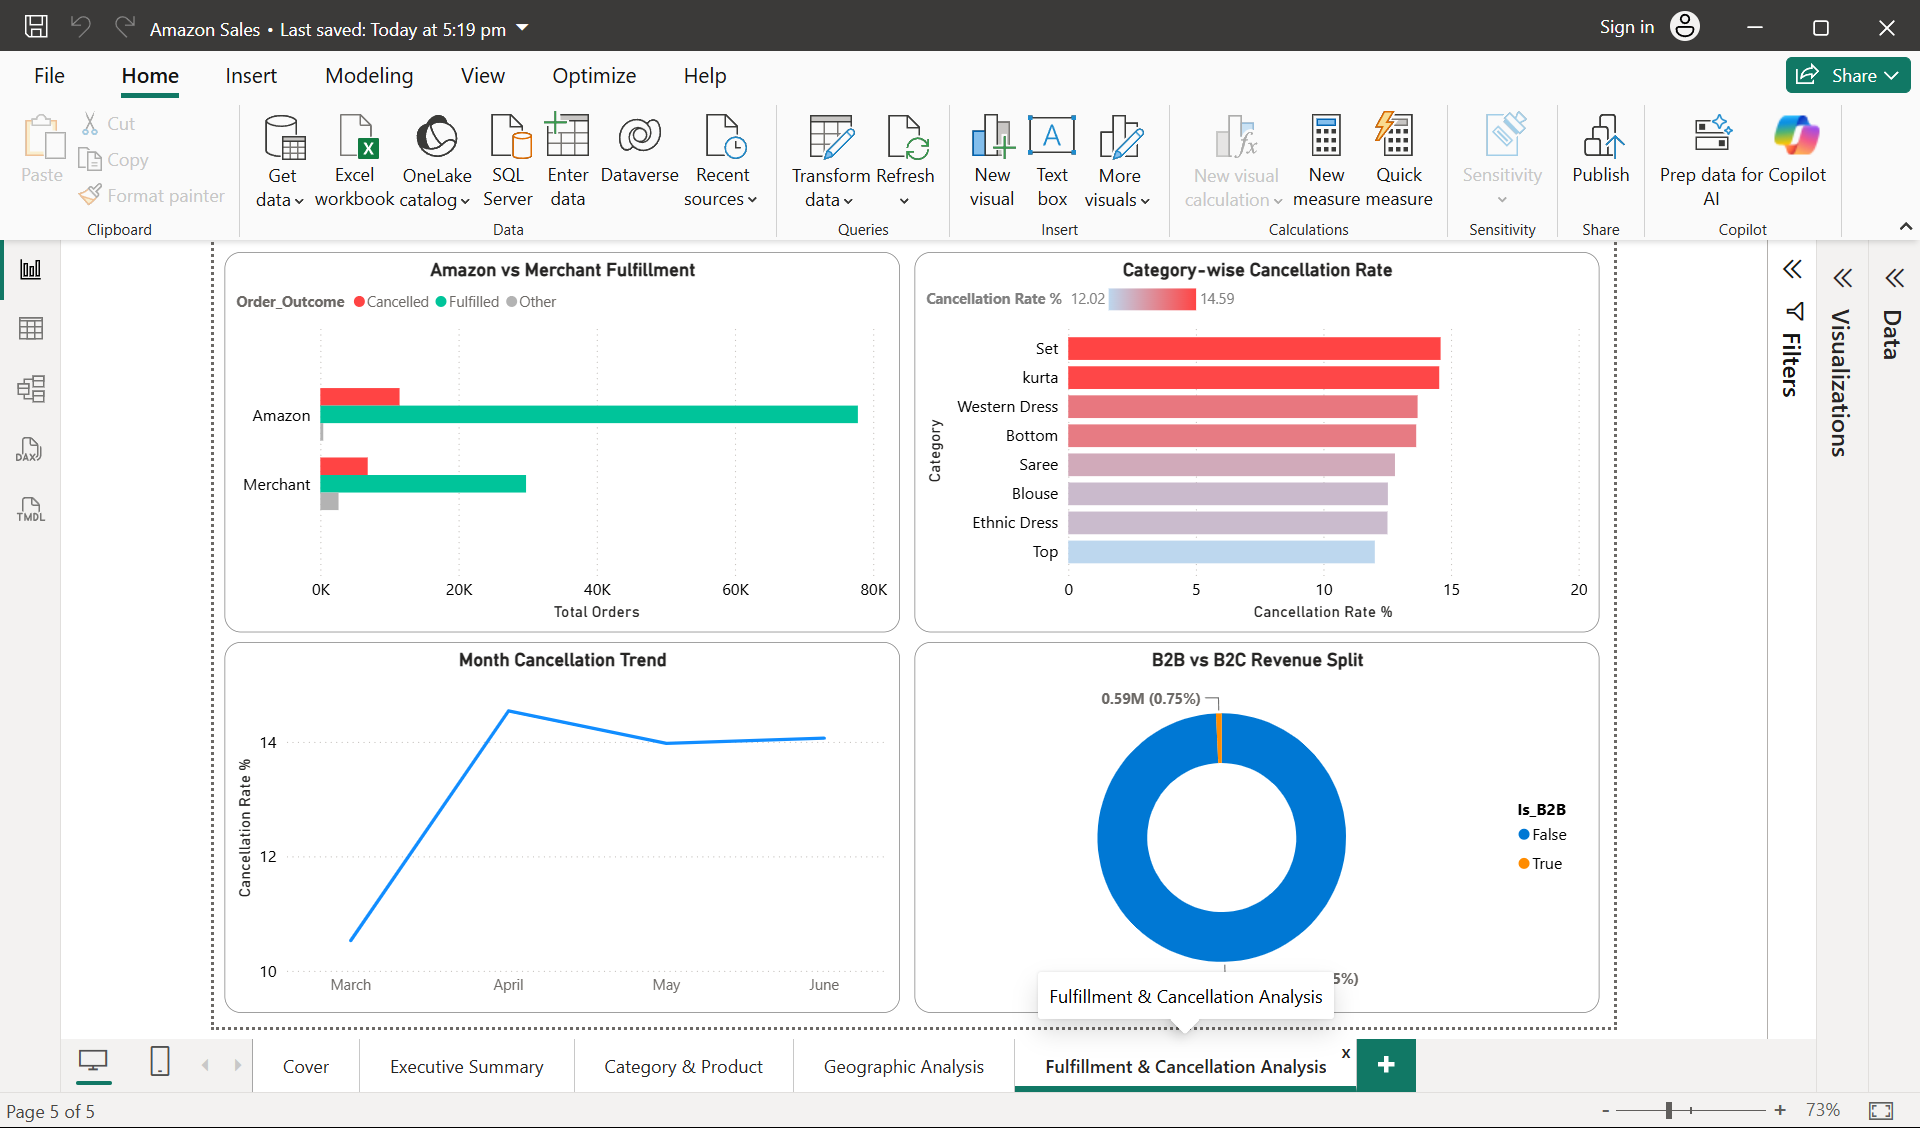

This screenshot's page, from the dashboard's own definition file:
{"tool":"powerbi","page":{"name":"Fulfillment & Cancellation Analysis","canvas":[1280,720],"ordinal":4},"visuals":[{"type":"clusteredBarChart","title":"Amazon vs Merchant Fulfillment","fields":{"Category":["powerbi_main_data.Fulfilment_Type"],"Y":["powerbi_category_summary.Total Orders"],"Series":["powerbi_main_data.Order_Outcome"]},"box":[9.1,10.6,617.8,348.3],"z":0},{"type":"lineChart","title":"Month Cancellation Trend","fields":{"Y":["powerbi_category_summary.Cancellation Rate %"],"Category":["powerbi_main_data.Date.Variation.Date Hierarchy.Month"]},"box":[9.1,368,617.8,339.2],"z":1000},{"type":"barChart","title":"Category-wise Cancellation Rate","fields":{"Category":["powerbi_main_data.Category"],"Y":["powerbi_category_summary.Cancellation Rate %"]},"box":[640.5,10.6,626.9,348.3],"z":2000},{"type":"donutChart","title":"B2B vs B2C Revenue Split","fields":{"Category":["powerbi_main_data.Is_B2B"],"Y":["powerbi_category_summary.Total Revenue"]},"box":[640.5,368,626.9,339.2],"z":3000}]}

Visuals, with their boxes on the page's 1280x720 design canvas (x1, y1, x2, y2). These are canvas units, not pixel positions in the 1920x1128 screenshot, which may show the page scaled, cropped or inside an application window:
"Amazon vs Merchant Fulfillment" clusteredBarChart: [9, 11, 627, 359]
"Month Cancellation Trend" lineChart: [9, 368, 627, 707]
"Category-wise Cancellation Rate" barChart: [640, 11, 1267, 359]
"B2B vs B2C Revenue Split" donutChart: [640, 368, 1267, 707]
